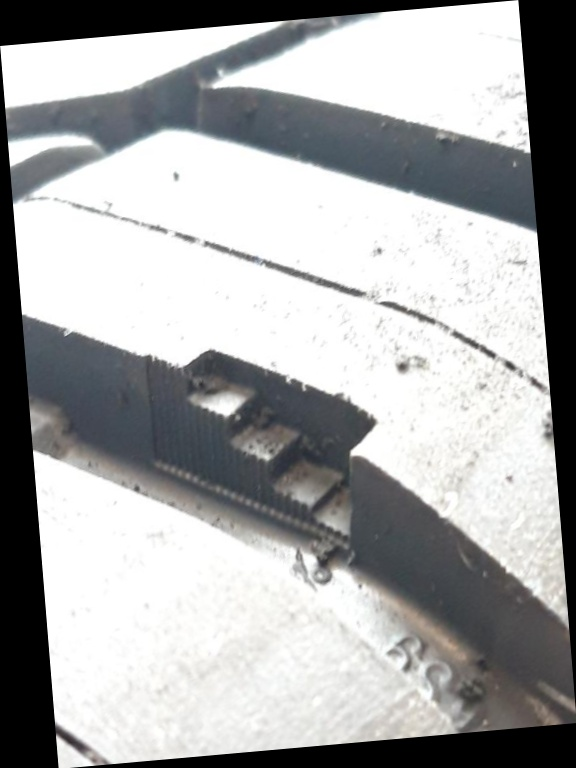temoin:95: (133, 314, 399, 587)
